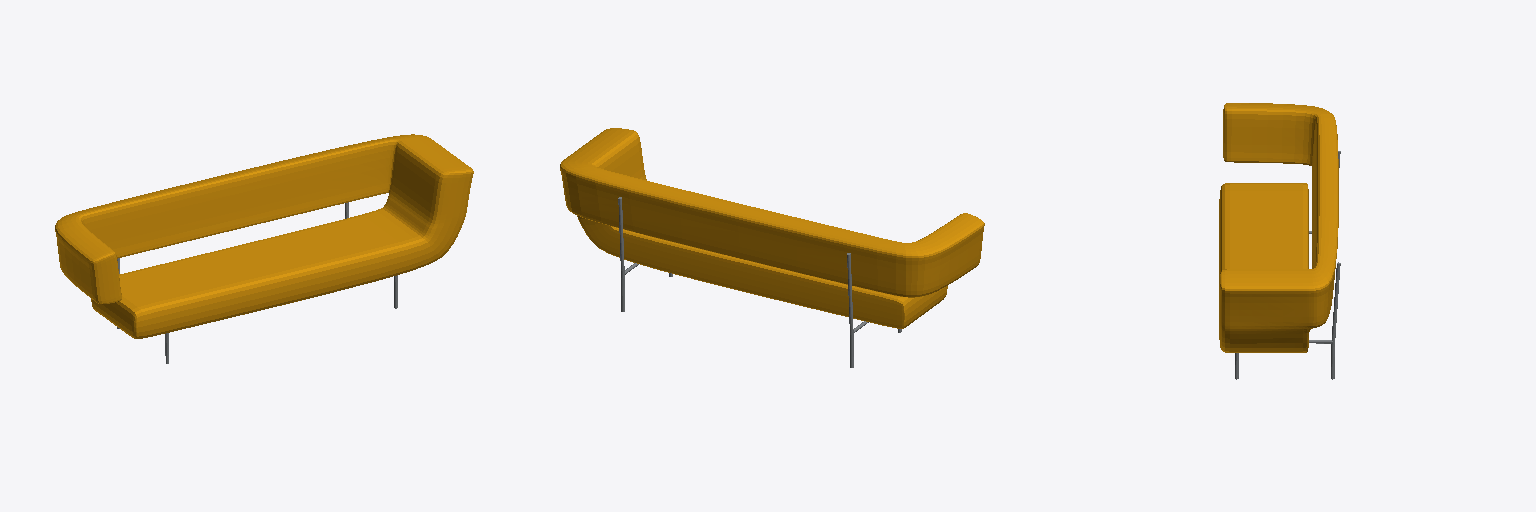
The picture shows the model from 3 angles: view 1: azimuth 30°, elevation 25°; view 2: azimuth 150°, elevation 25°; view 3: azimuth 270°, elevation 25°; orthographic projection.
Visible parts, largest first — view 1: Cube_Cube.001; view 2: Cube_Cube.001; view 3: Cube_Cube.001, Cylinder.013.
Boxes of the visible parts, box(x1,y1,x2,y2) form: Cube_Cube.001: box(55, 134, 473, 338); Cube_Cube.001: box(560, 128, 984, 328); Cube_Cube.001: box(1219, 103, 1338, 352); Cylinder.013: box(1235, 262, 1340, 379).
Bounding box in the file's own units: 9.4 × 3.05 × 2.59.
4 materials, 1 textured.